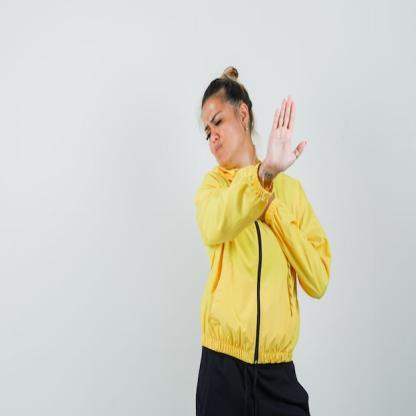stop: (260, 90, 310, 175)
